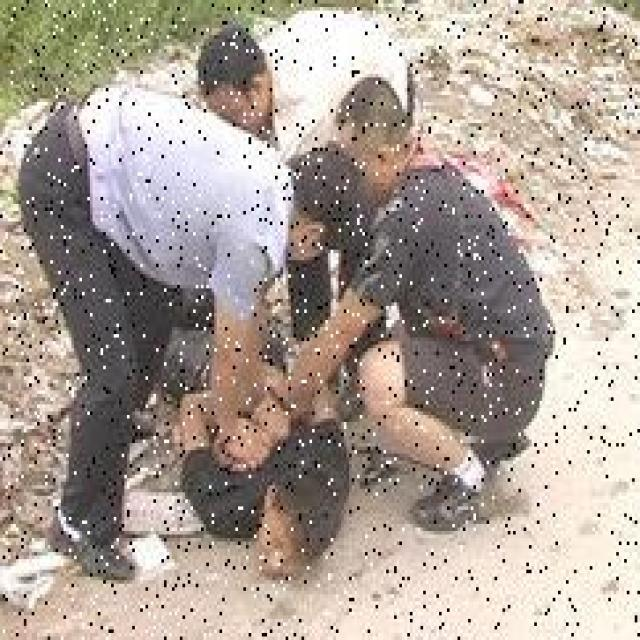fall: (156, 324, 352, 566)
